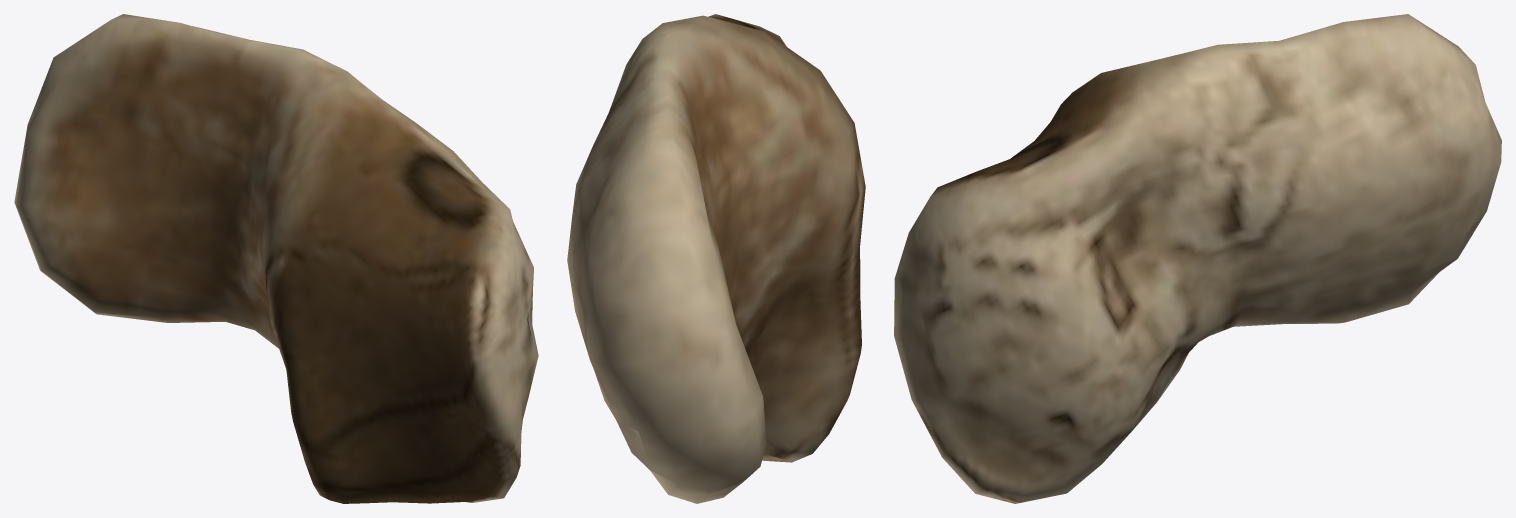
Rendered from Ulnar_Accessory_Carpal.glb.
3 renders of one model, left to right at view 1: azimuth 30°, elevation 25°; view 2: azimuth 150°, elevation 25°; view 3: azimuth 270°, elevation 25°, orthographic. The views are drawn at different scales.
Visible parts, largest first — view 1: L_Frt_Ulnar_Accessory_Carpal; view 2: L_Frt_Ulnar_Accessory_Carpal; view 3: L_Frt_Ulnar_Accessory_Carpal.
Boxes of the visible parts, <box> form: L_Frt_Ulnar_Accessory_Carpal: <box>14,14,538,503</box>; L_Frt_Ulnar_Accessory_Carpal: <box>567,14,865,503</box>; L_Frt_Ulnar_Accessory_Carpal: <box>894,14,1501,503</box>.
Bounding box in the file's own units: 0.0399 × 0.05 × 0.066.
1 material, 1 textured.
